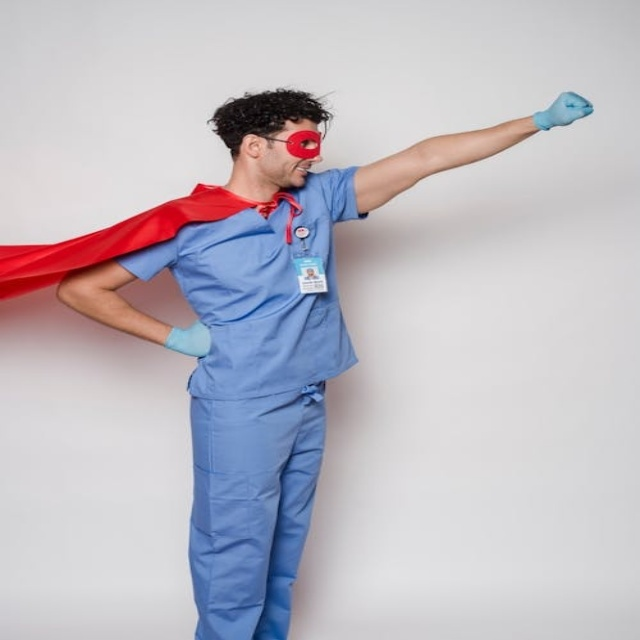Guantes: (533, 91, 593, 130), (164, 320, 212, 357)
Sin_mascara: (274, 159, 315, 187)
